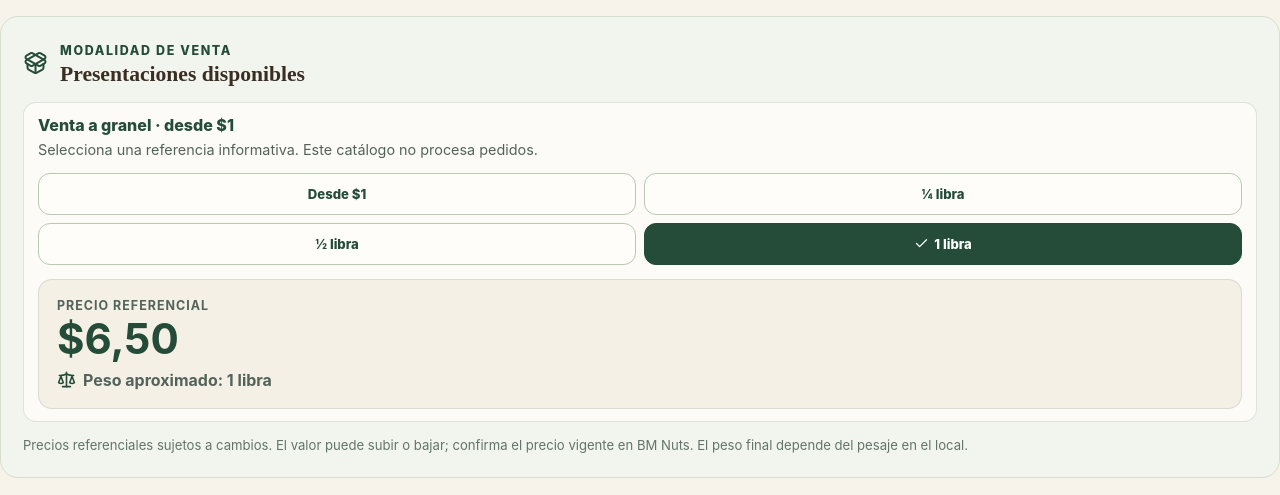
selector real de precios y presentaciones › formatea el peso variable con coma y un máximo de tres decimales
The width and height of the screenshot is (1280, 495).
Click the button "Desde $1" at (337, 194), box [38,173,636,215]
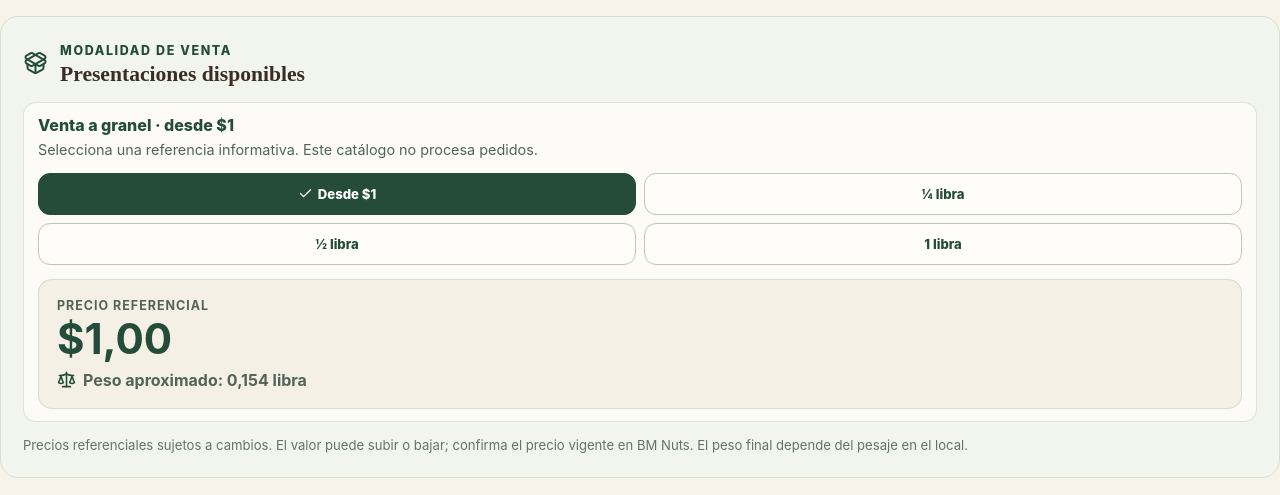
Result: the element showing "Precio referencial $1,00 Peso aproximado: 0,154 libra" is shown at [38,279,1242,409]
